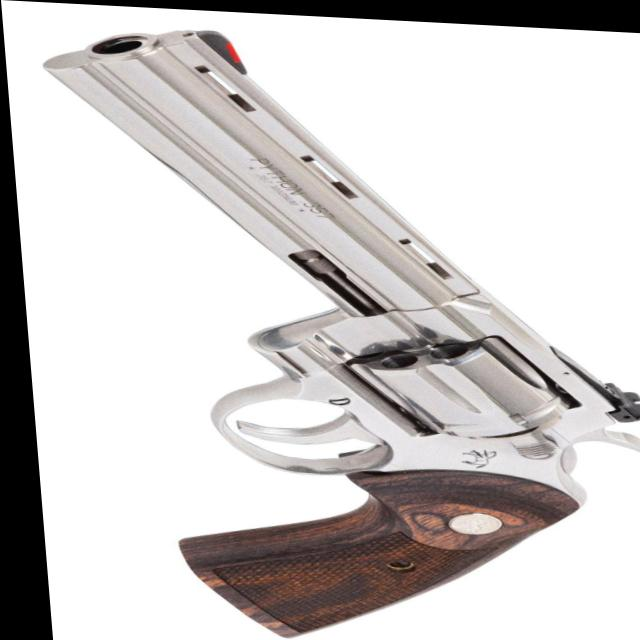handgun: (32, 25, 640, 640)
